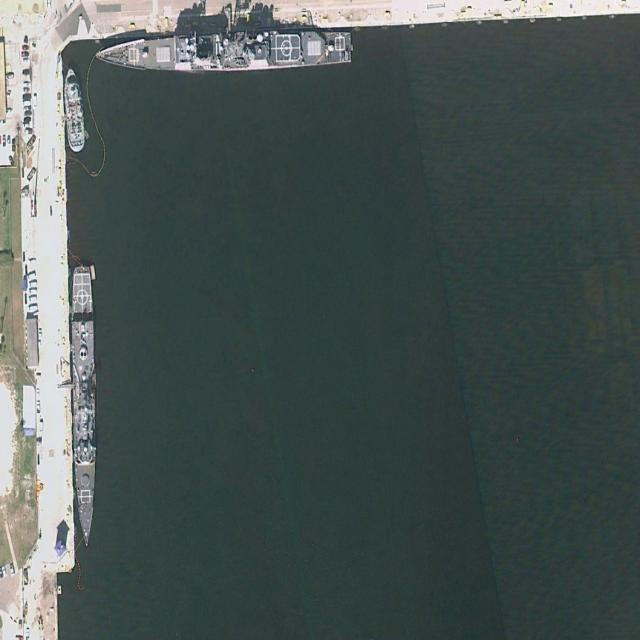Cruiser: (95, 29, 353, 75)
Frigate: (68, 264, 99, 546)
Other Ship: (60, 64, 87, 153)
